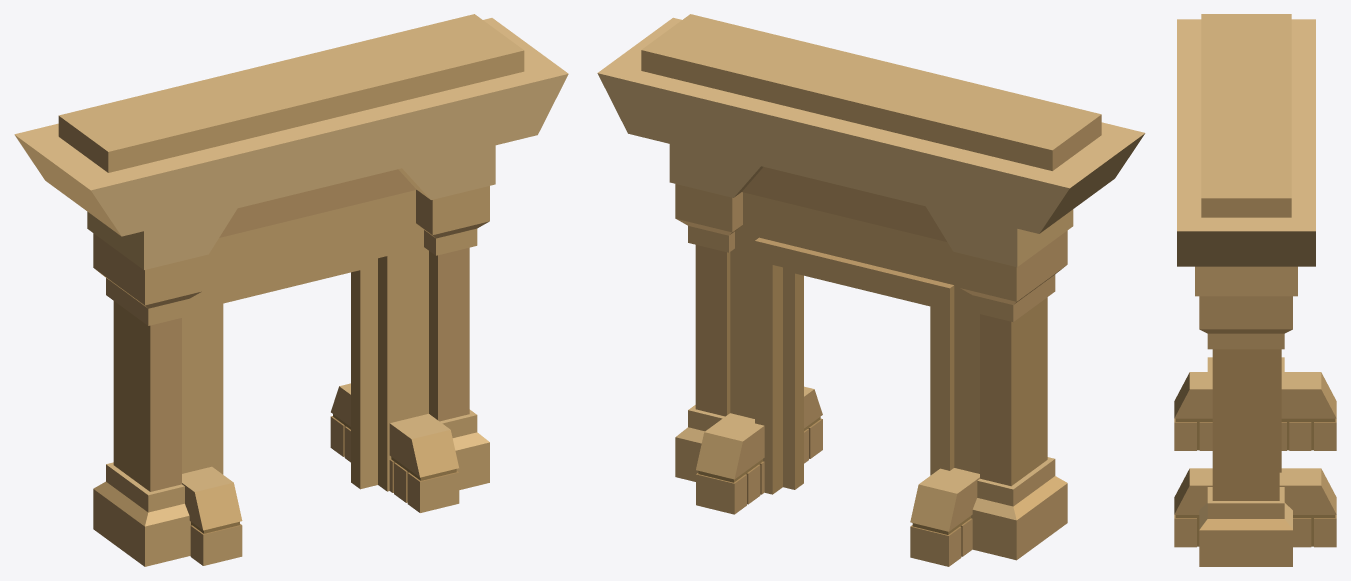
The model's file is ST_Env_Doorway_04.fbx.
3 views of the same model, side by side, from view 1: azimuth 30°, elevation 25°; view 2: azimuth 150°, elevation 25°; view 3: azimuth 270°, elevation 25° (orthographic). The views are drawn at different scales.
Parts seen in each view (by area): view 1: ST_Env_Doorway_04; view 2: ST_Env_Doorway_04; view 3: ST_Env_Doorway_04.
Boxes of the visible parts, x1,y1,x2,y2 form: ST_Env_Doorway_04: (14, 14, 568, 566); ST_Env_Doorway_04: (597, 14, 1145, 566); ST_Env_Doorway_04: (1174, 14, 1336, 566).
Size of the model in its own units: 8.31 by 7.02 by 2.69.
